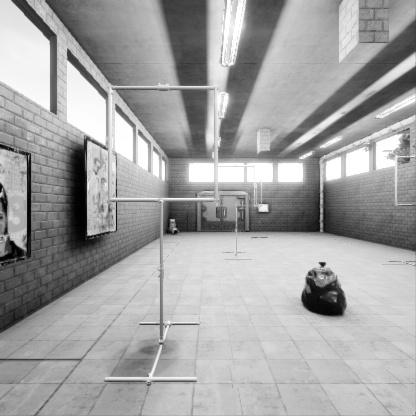gate: (114, 210, 224, 320), (218, 208, 257, 248), (398, 209, 416, 258), (256, 208, 262, 234)
